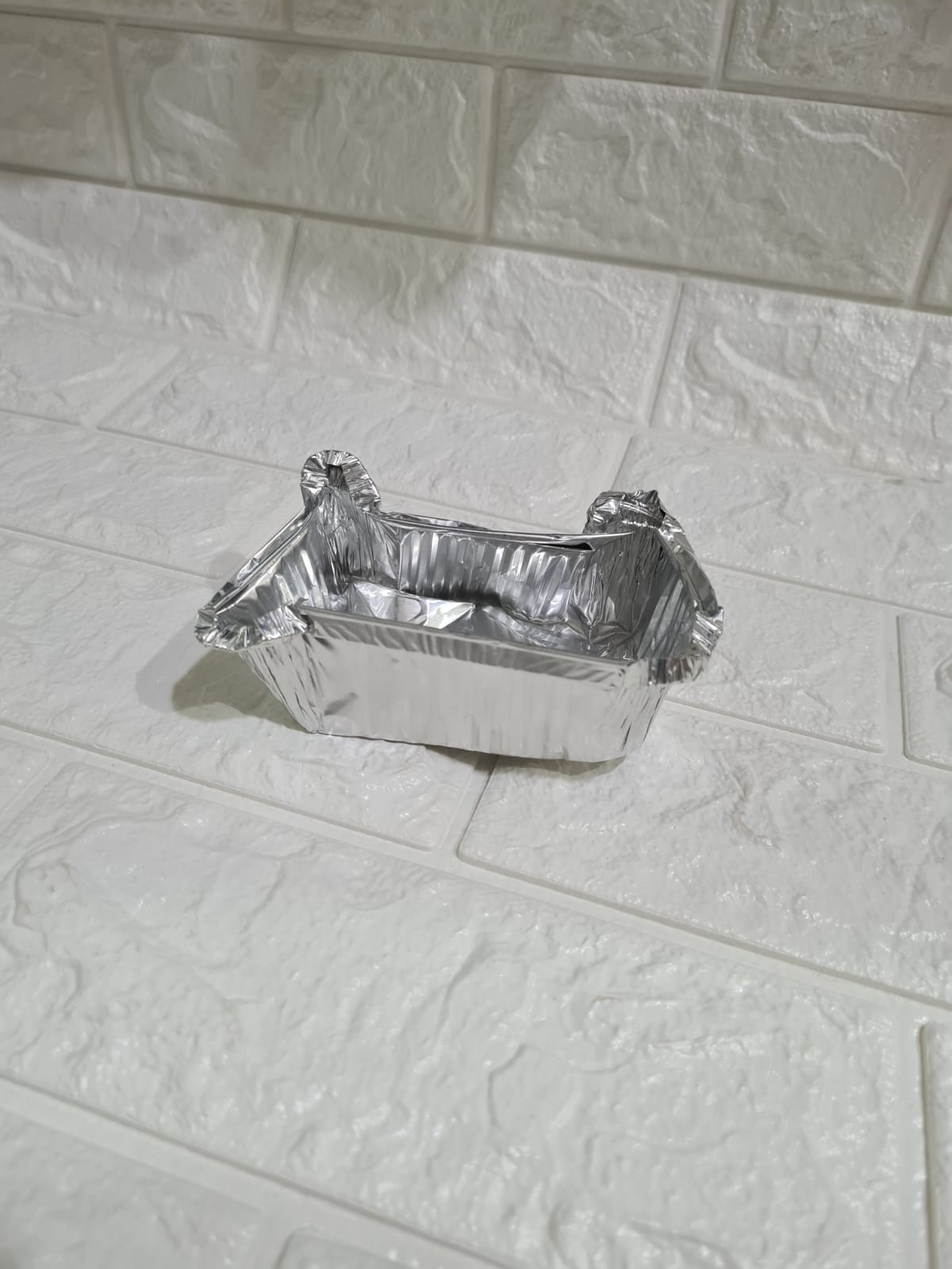Metal: (188, 493, 742, 757)
